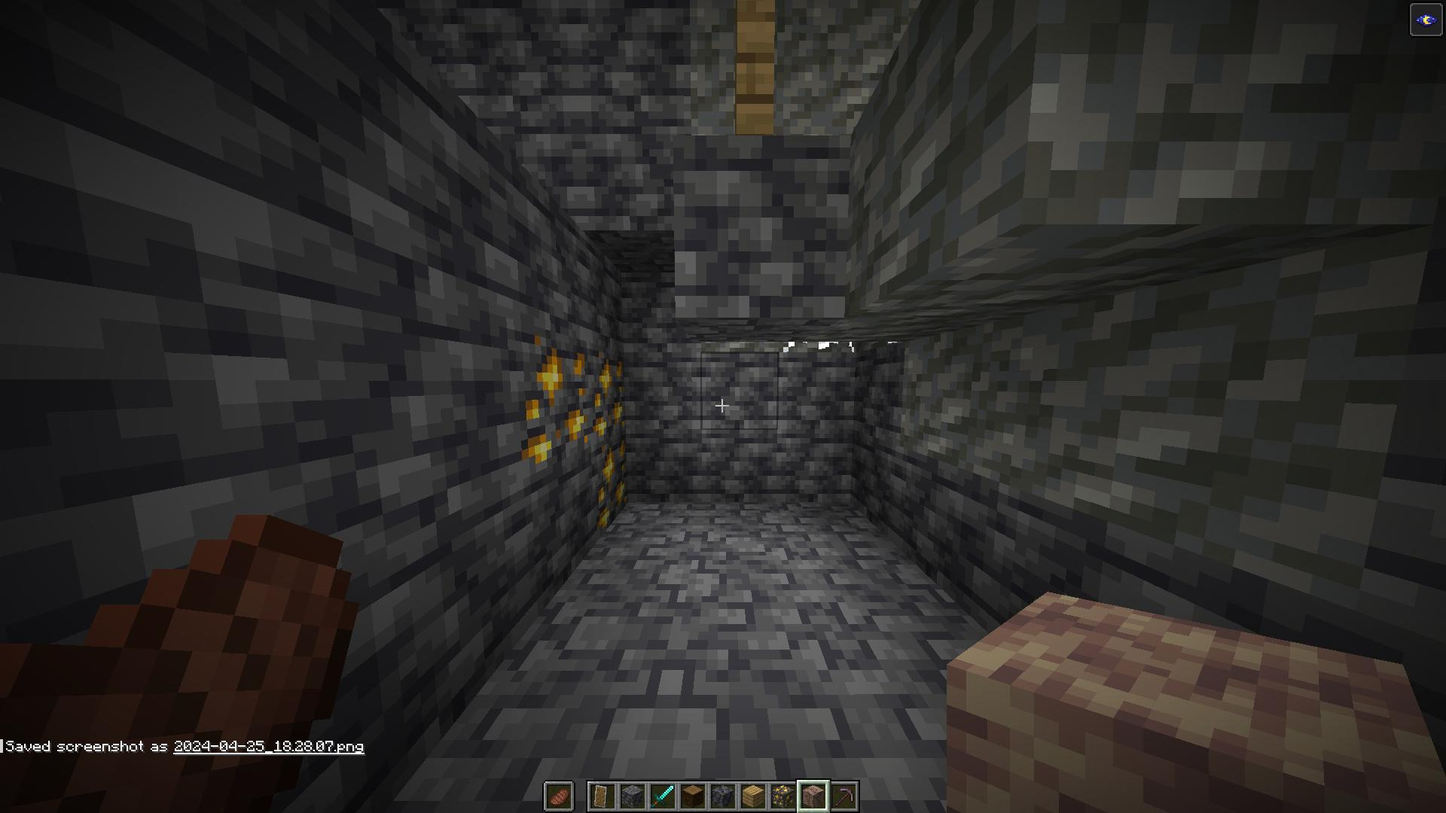gold ore: (521, 334, 586, 466), (583, 349, 625, 453), (600, 437, 627, 530)
